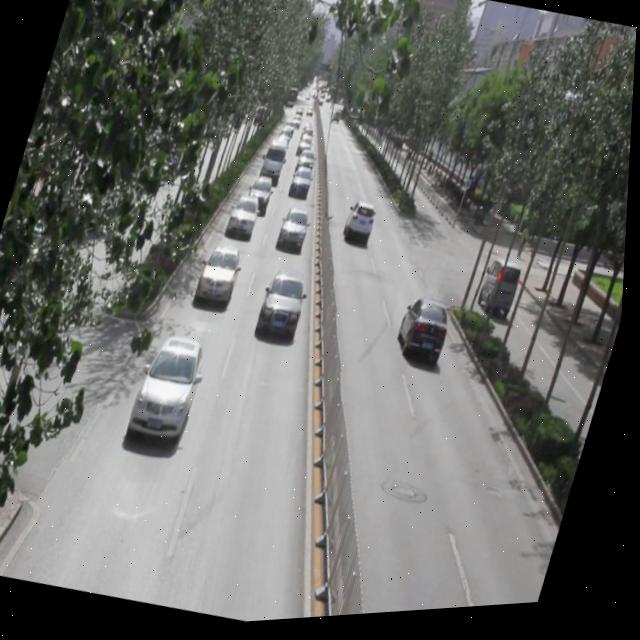car: (130, 331, 215, 448), (394, 295, 458, 371), (254, 270, 313, 348), (196, 243, 248, 313), (341, 200, 382, 252), (277, 206, 315, 258), (227, 194, 265, 244), (287, 165, 320, 206), (247, 177, 277, 218)
truck: (473, 258, 528, 329), (259, 138, 292, 187)
